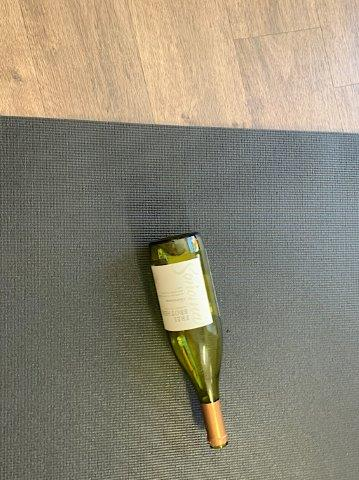botolkaca: (148, 233, 230, 450)
